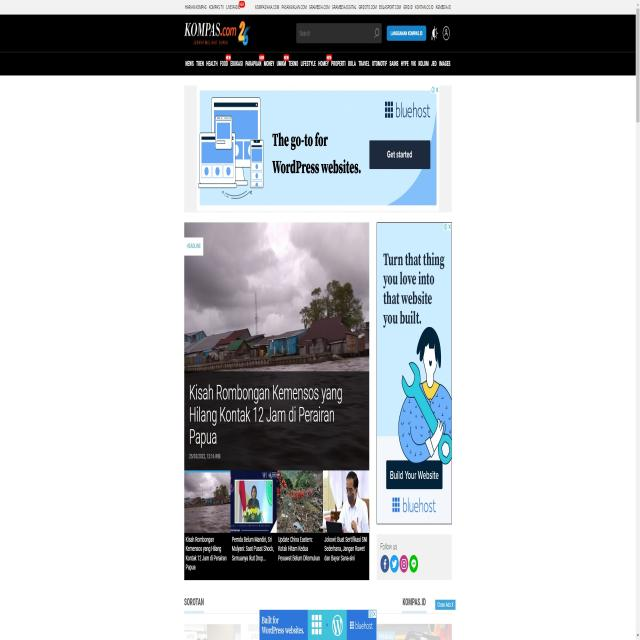menu-bar: (182, 2, 452, 10)
search: (296, 20, 382, 44)
tab-bar: (181, 54, 454, 71)
